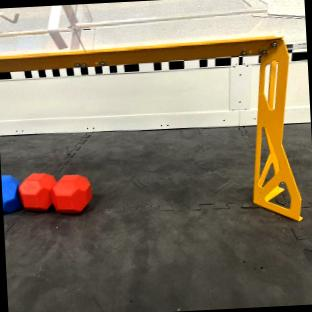Goal: (0, 0, 299, 219)
V5_BLUE: (1, 174, 20, 213)
V5_RED: (15, 171, 92, 214)
